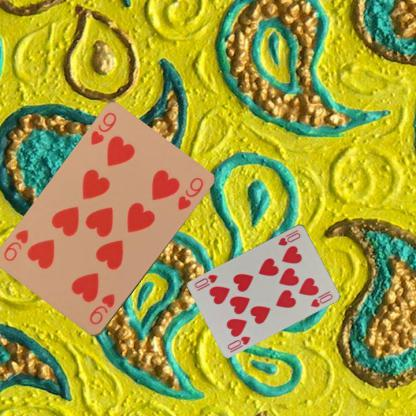10h: (225, 333, 252, 351), (276, 229, 302, 247)
9h: (88, 110, 118, 147), (87, 292, 116, 326)
